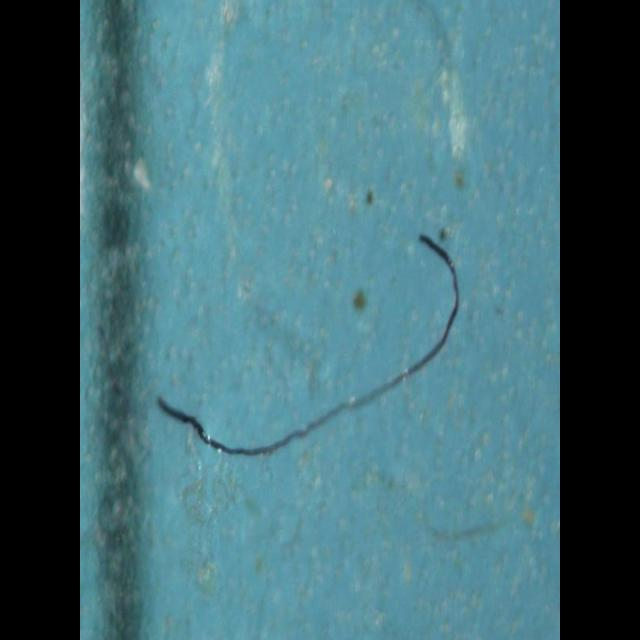Fibre: (156, 231, 460, 457)
